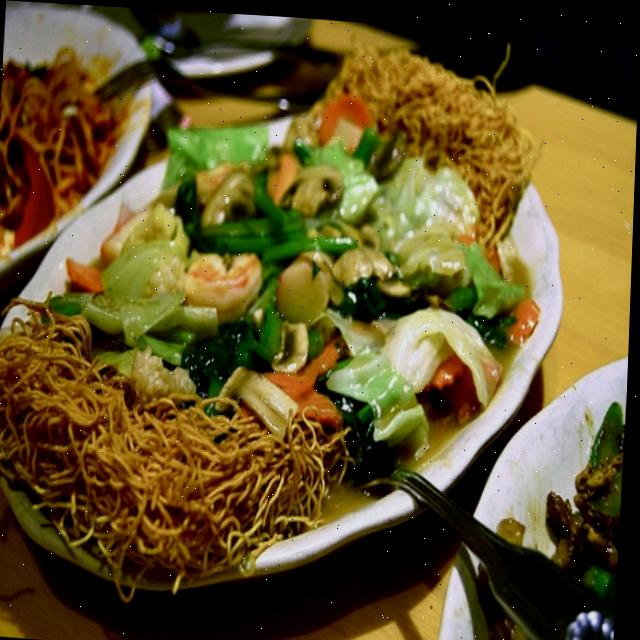面条主食: (0, 11, 576, 614)
